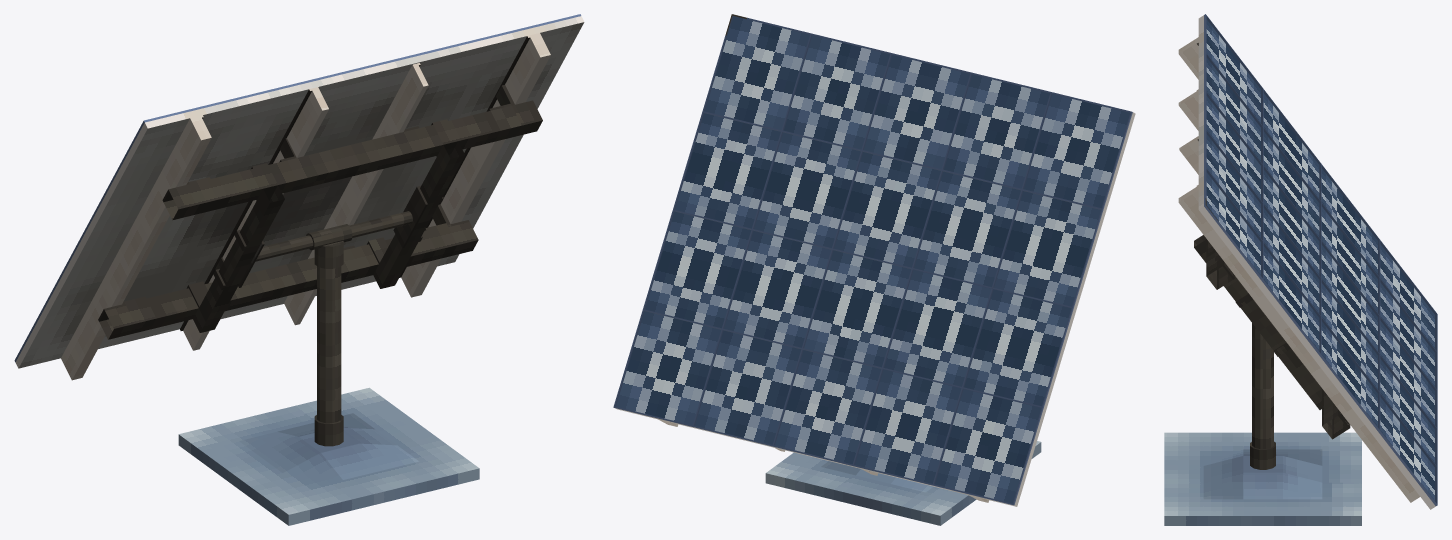
Rendered from solar_panel.glb.
3 renders of one model, left to right at view 1: azimuth 30°, elevation 25°; view 2: azimuth 150°, elevation 25°; view 3: azimuth 270°, elevation 25°, orthographic. The views are drawn at different scales.
Visible parts, largest first — view 1: cuboid_4, cuboid_0, cuboid_1, cylinder_2, cylinder_3; view 2: cuboid_4, cuboid_1; view 3: cuboid_4, cuboid_1, cuboid_0, cylinder_2.
Boxes of the visible parts, bbox=[...] form: cuboid_4: bbox=[14, 14, 584, 380]; cuboid_0: bbox=[180, 33, 550, 350]; cuboid_1: bbox=[178, 387, 479, 525]; cylinder_2: bbox=[314, 241, 343, 446]; cylinder_3: bbox=[255, 211, 412, 261]; cuboid_4: bbox=[613, 14, 1135, 506]; cuboid_1: bbox=[765, 441, 1041, 525]; cuboid_4: bbox=[1178, 14, 1437, 509]; cuboid_1: bbox=[1164, 432, 1361, 525]; cuboid_0: bbox=[1178, 89, 1419, 502]; cylinder_2: bbox=[1250, 323, 1275, 469].
Size of the model in its own units: 1.29 by 1.18 by 0.7782.
1 material, 1 textured.
